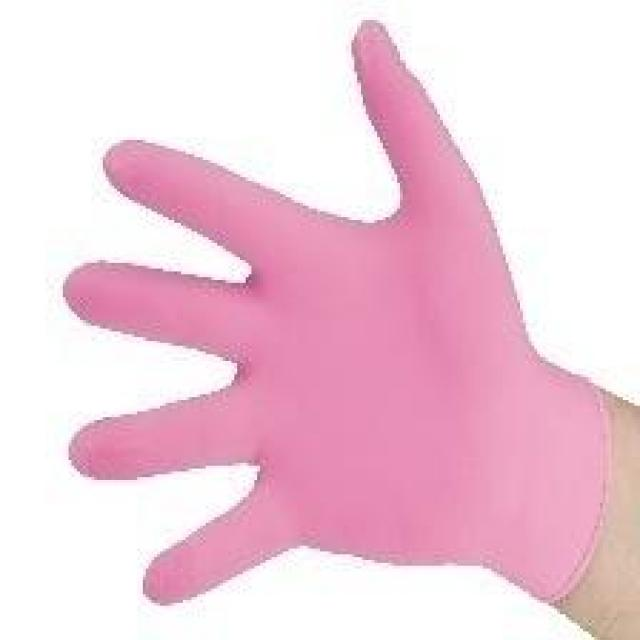Glove: (51, 27, 621, 640)
